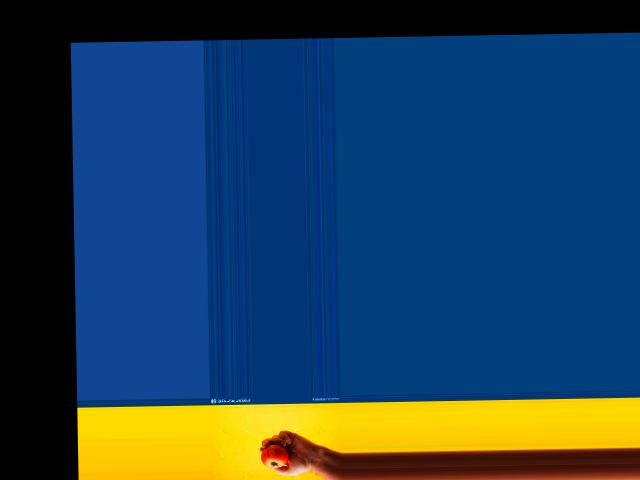tomato: (261, 444, 289, 467)
